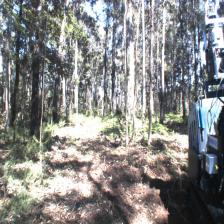trunktrack_idkeyframe: (30, 81, 40, 127), (159, 73, 165, 124)
